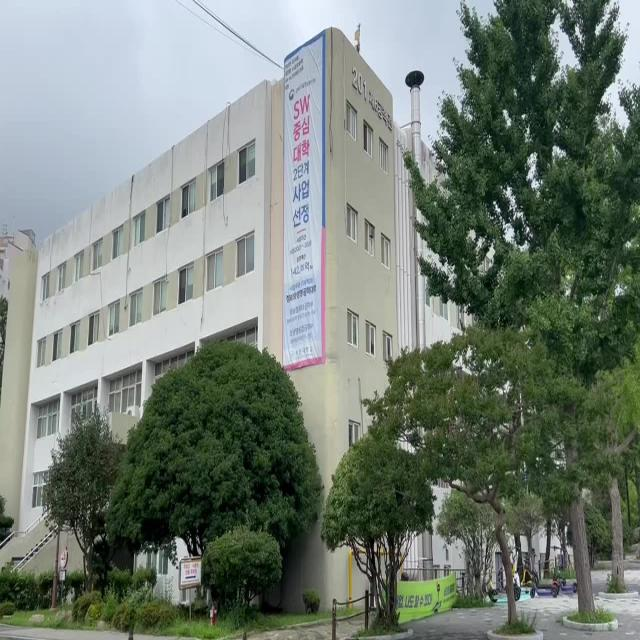building: (13, 35, 409, 362)
